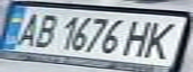1: (51, 12, 78, 52)
6: (103, 16, 130, 56), (69, 15, 93, 52)
7: (87, 15, 112, 54)
A: (9, 9, 45, 47)
B: (27, 11, 60, 50)
H: (118, 17, 163, 57)
K: (139, 18, 190, 60)
